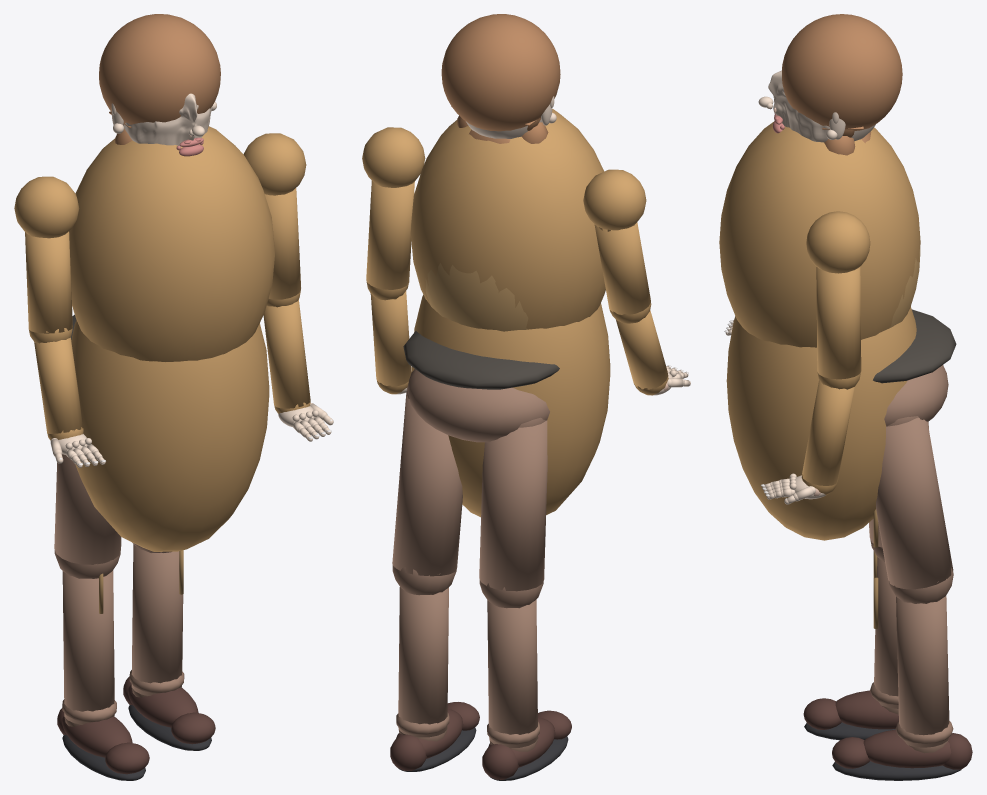
Rendered from hm_ped_ivy_v9.glb.
The picture shows the model from 3 angles, left to right: view 1: azimuth 30°, elevation 25°; view 2: azimuth 150°, elevation 25°; view 3: azimuth 270°, elevation 25°; orthographic projection. The views are drawn at different scales.
Parts seen in each view (by area): view 1: hm_ped_ivy; view 2: hm_ped_ivy; view 3: hm_ped_ivy.
Part boxes in pixels (left/top/right/bottom): hm_ped_ivy: left=14, top=14, right=333, bottom=780; hm_ped_ivy: left=362, top=14, right=690, bottom=780; hm_ped_ivy: left=719, top=14, right=972, bottom=780.
Size of the model in its own units: 0.7337 by 1.77 by 0.5523.
